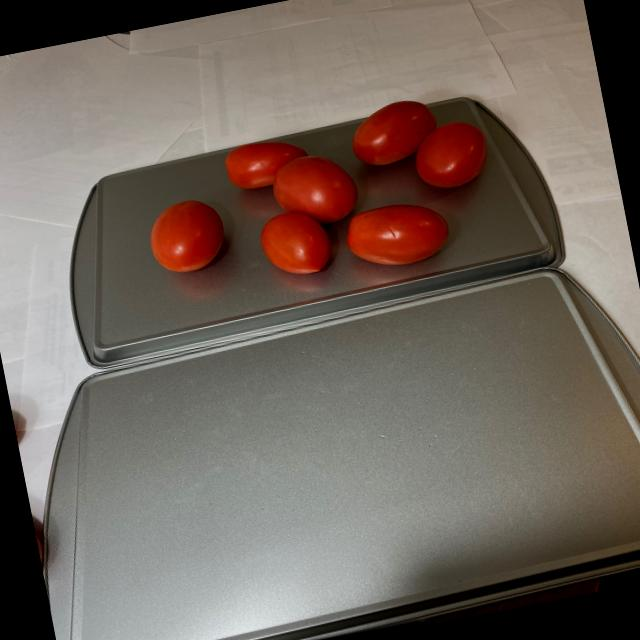tomato: (122, 85, 514, 319)
